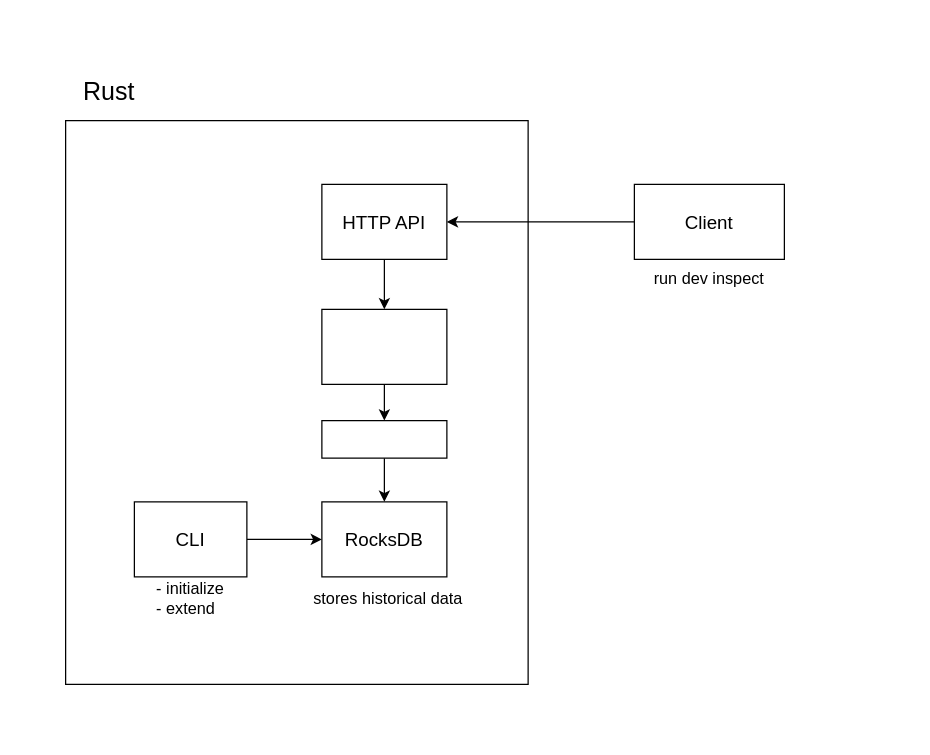
The diagram is 930 pixels wide and 755 high, and some of its shapes have lost their labels. Each missing label, with the centre of its shape:
History point translation: the point at 384,438
Move VM: the point at 384,346
